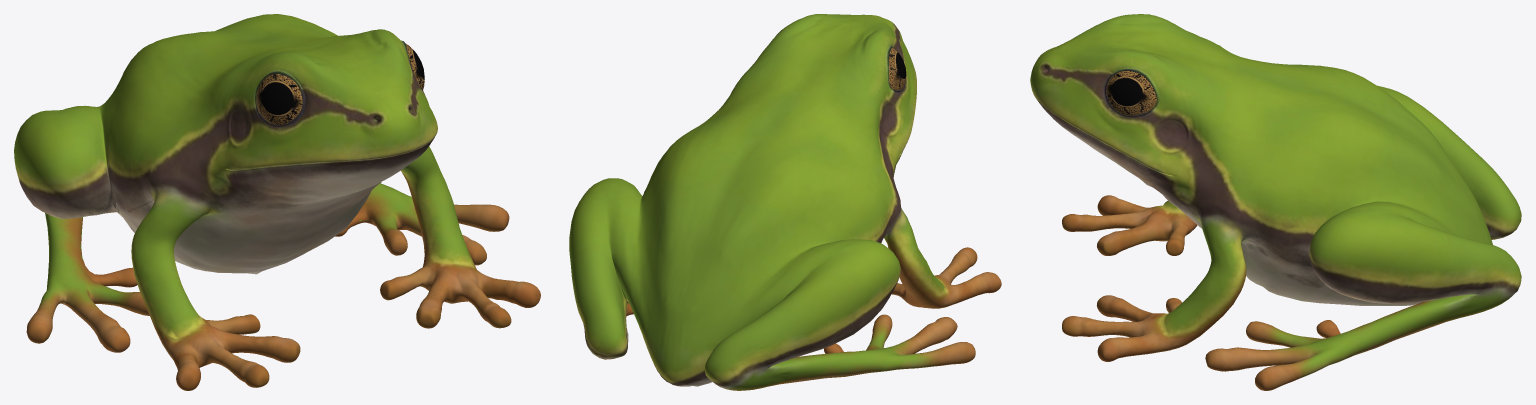
Rendered from frog.glb.
3 renders of one model, left to right at view 1: azimuth 30°, elevation 25°; view 2: azimuth 150°, elevation 25°; view 3: azimuth 270°, elevation 25°, orthographic. The views are drawn at different scales.
Parts seen in each view (by area): view 1: Frog_001_Eyes_0_0; view 2: Frog_001_Eyes_0_0; view 3: Frog_001_Eyes_0_0.
Boxes of the visible parts, bbox=[...] form: Frog_001_Eyes_0_0: bbox=[14, 14, 540, 390]; Frog_001_Eyes_0_0: bbox=[569, 14, 1001, 390]; Frog_001_Eyes_0_0: bbox=[1030, 14, 1521, 390].
Size of the model in its own units: 0.3835 by 0.2292 by 0.3885.
2 materials, 2 textured.
